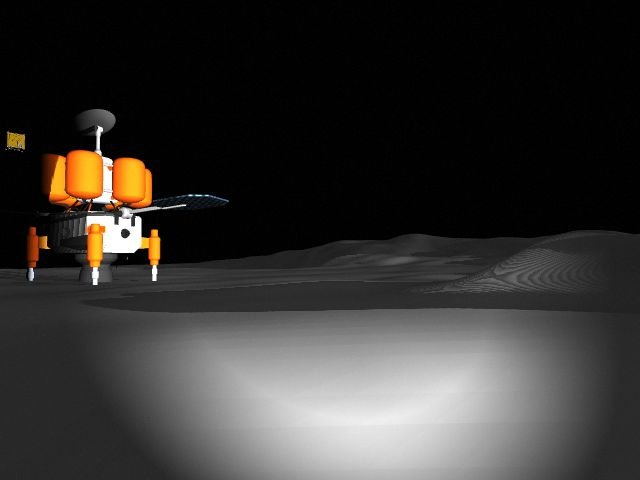cubesat: (2, 130, 28, 156)
